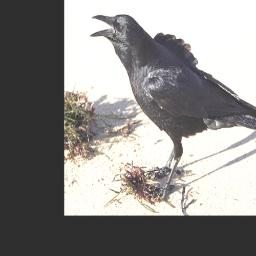Crow: (89, 13, 256, 205)
